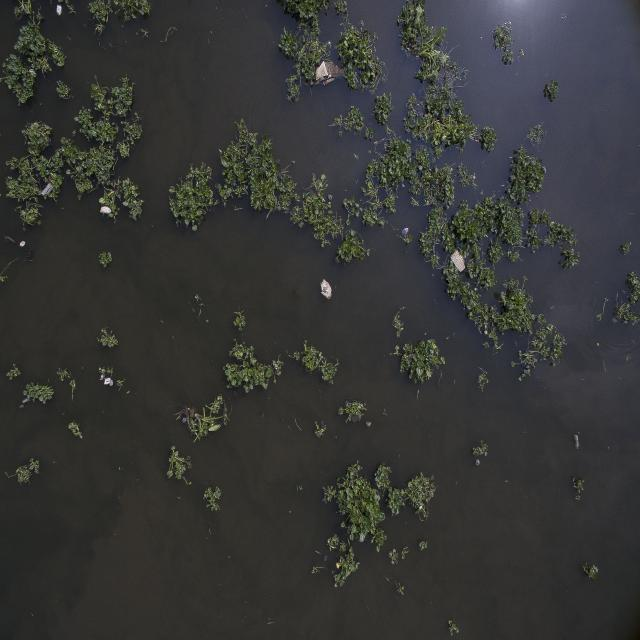plastic: (308, 55, 353, 93), (316, 274, 342, 307), (94, 194, 118, 224), (34, 179, 62, 204), (450, 244, 471, 277), (98, 364, 119, 392), (398, 216, 416, 245), (15, 235, 31, 260), (52, 0, 73, 19)
